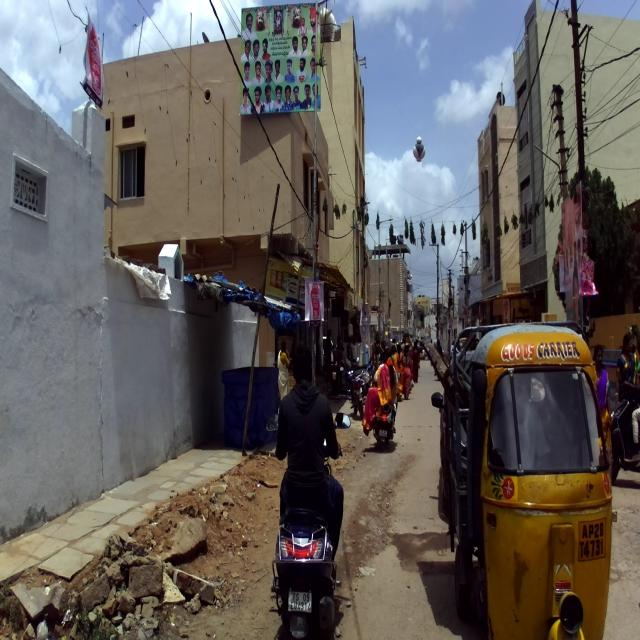autorickshaw: (423, 320, 616, 640)
motorcycle: (339, 356, 366, 420)
scooter: (268, 409, 351, 639), (372, 371, 401, 452)
